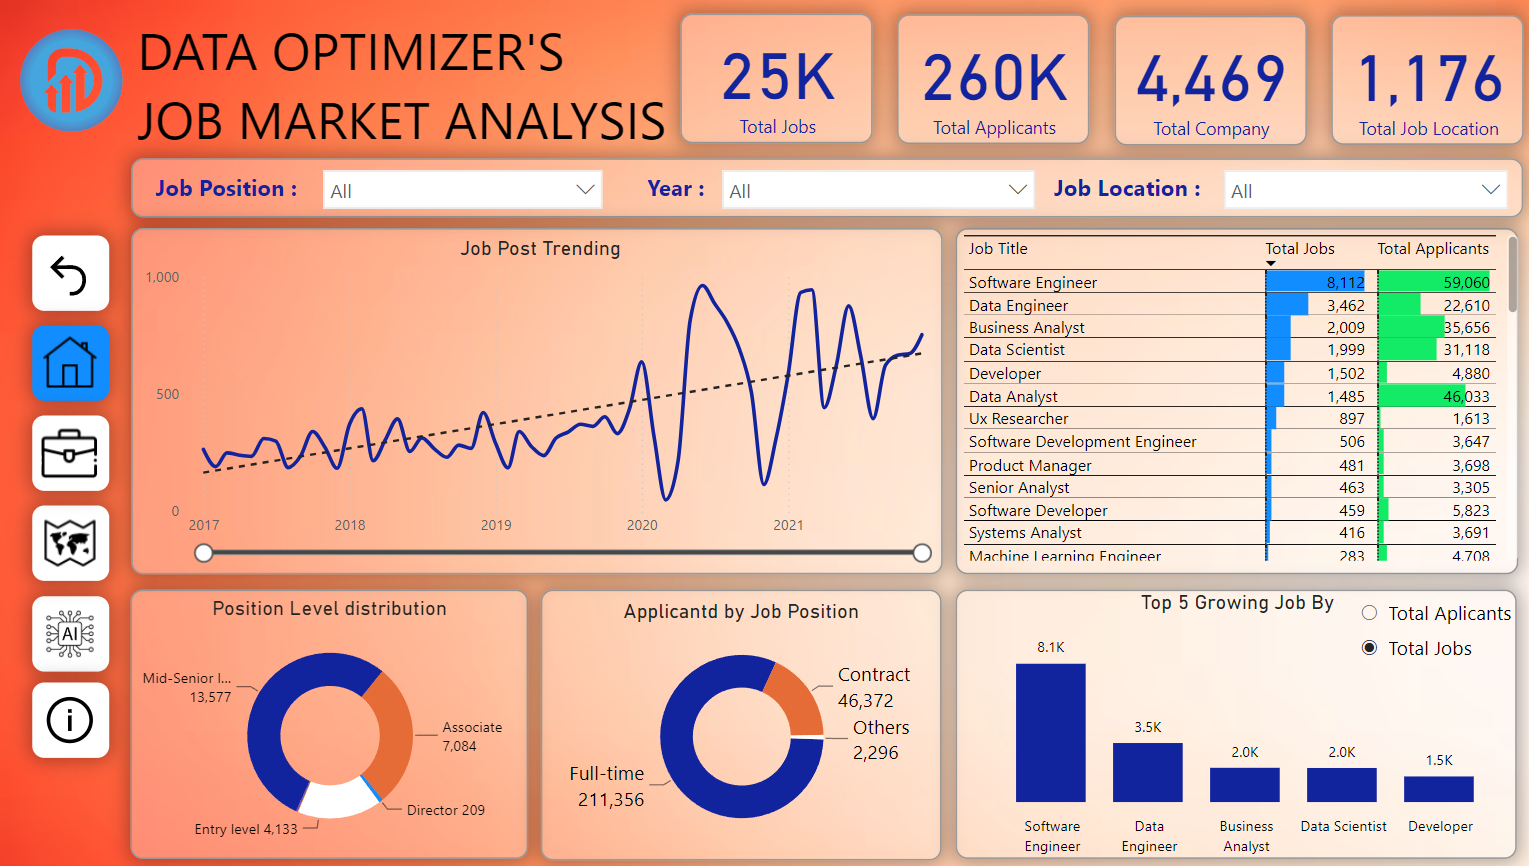

Layout of this report page (visuals, bound fields, positions):
{"tool":"powerbi","page":{"name":"EXEC DASHBOARD","canvas":[1280,720],"ordinal":0},"visuals":[{"type":"group","id":"g1","title":"Group 1","box":[1106.6,12.7,160.5,108.2],"z":0},{"type":"slicer","fields":{"Values":["job_postings.Job Position Level"]},"box":[258,131,253,50],"z":0,"group":"g14"},{"type":"slicer","fields":{"Values":["job_postings.Year"]},"box":[590,131,281,50],"z":0,"group":"g15"},{"type":"slicer","fields":{"Values":["job_postings.Job Location"]},"box":[1007,131,257,51],"z":0,"group":"g16"},{"type":"group","id":"g2","title":"Group 14","box":[27.3,196,64,363],"z":0,"group":"g10"},{"type":"shape","box":[27.3,495.7,63.8,63],"z":0,"group":"g11"},{"type":"shape","box":[27,567.5,63.6,62.7],"z":0,"group":"g4"},{"type":"group","id":"g3","title":"Group 2","box":[746,12.1,160.5,108.2],"z":1000},{"type":"textbox","box":[124,138,144,37],"z":1000,"group":"g14"},{"type":"textbox","box":[533,138,68,35],"z":1000,"group":"g15"},{"type":"textbox","box":[871,138,169,40],"z":1000,"group":"g16"},{"type":"shape","box":[27.3,420.8,63.8,63],"z":1000,"group":"g12"},{"type":"group","id":"g4","title":"Group 15","box":[27,567.5,63.6,62.7],"z":1000,"group":"g10"},{"type":"actionButton","box":[33.3,574,50,51],"z":1000,"group":"g4"},{"type":"group","id":"g5","title":"Group 3","box":[565.7,11.5,160.5,108.2],"z":2000},{"type":"shape","box":[27.3,345.8,63.8,63],"z":2000,"group":"g17"},{"type":"group","id":"g6","title":"Group 4","box":[926.3,13.3,160.5,108.2],"z":3000},{"type":"shape","box":[27.3,270.9,63.8,63],"z":3000,"group":"g18"},{"type":"image","box":[0,6.2,118.8,122.4],"z":4000},{"type":"shape","box":[27.3,196,63.8,63],"z":4000,"group":"g13"},{"type":"textbox","box":[109,6,492,125],"z":5000},{"type":"shape","box":[109,131.9,1157.3,49.1],"z":6000,"group":"g8"},{"type":"shape","box":[108.7,489.9,330.2,224.5],"z":6000},{"type":"shape","box":[565.7,11.5,160.5,108.2],"z":7000,"group":"g7"},{"type":"shape","box":[926.3,13.3,160.5,108.2],"z":7000,"group":"g6"},{"type":"shape","box":[449.5,489.8,333.6,224.8],"z":7000},{"type":"shape","box":[746,12.1,160.5,108.2],"z":8000,"group":"g3"},{"type":"card","fields":{"Values":["_Measure.Total Company"]},"box":[931.9,14.5,149,106.4],"z":8000,"group":"g6"},{"type":"donutChart","title":"Applicantd by Job Position","fields":{"Category":["job_postings.Job Postition Category"],"Y":["_Measure.Total Aplicants"]},"box":[456.7,497.8,320,208.9],"z":8000},{"type":"shape","box":[1106.6,12.7,160.5,108.2],"z":9000,"group":"g1"},{"type":"shape","box":[794.1,189.6,467.9,288.3],"z":9000},{"type":"tableEx","fields":{"Values":["job_postings.Job Title","_Measure.Total Jobs","_Measure.Total Aplicants"]},"box":[794.5,190,472.7,280.9],"z":10000},{"type":"group","id":"g7","title":"Group 5","box":[565.7,11.5,160.5,108.2],"z":10001,"group":"g5"},{"type":"card","fields":{"Values":["_Measure.Total Jobs"]},"box":[571.9,13.3,149,106.4],"z":11000,"group":"g7"},{"type":"shape","box":[794.5,490.3,467.3,223.4],"z":11000},{"type":"card","fields":{"Values":["_Measure.Total Aplicants"]},"box":[752.2,13.9,149,106.4],"z":12000,"group":"g3"},{"type":"columnChart","title":"Top 5 Growing Job By","fields":{"Y":["_Measure.Total Jobs"],"Category":["job_postings.Job Title"]},"box":[793.6,489.1,470.9,226.4],"z":12000},{"type":"shape","box":[109.1,189.8,674.8,288.2],"z":13000,"group":"g9"},{"type":"slicer","fields":{"Values":["Parameter.Parameter"]},"box":[1117.3,490,150,68.2],"z":13000},{"type":"card","fields":{"Values":["_Measure.Total Job Location"]},"box":[1112.8,14.5,149,106.4],"z":14000,"group":"g1"},{"type":"group","id":"g8","title":"Group 7","box":[109,131,1157.3,51],"z":14000},{"type":"lineChart","title":"Job Post Trending","fields":{"Category":["job_postings.Start of Month"],"Y":["_Measure.Total Jobs"]},"box":[114.4,196,669.5,274.9],"z":14000,"group":"g9"},{"type":"group","id":"g9","title":"Group 8","box":[109.1,189.8,674.8,288.2],"z":15000},{"type":"group","id":"g10","title":"Group 16","box":[27,196,64,435],"z":16000},{"type":"donutChart","title":" Position Level distribution","fields":{"Category":["job_postings.Job Position Level"],"Y":["_Measure.Total Jobs"]},"box":[108.9,495.6,330,211.1],"z":17000},{"type":"group","id":"g11","title":"Group 9","box":[27.3,495.7,63.8,63],"z":17000,"group":"g2"},{"type":"group","id":"g12","title":"Group 10","box":[27.3,420.8,63.8,63],"z":18000,"group":"g2"},{"type":"group","id":"g13","title":"Group 13","box":[27.3,196,63.8,212.8],"z":19000,"group":"g2"},{"type":"actionButton","box":[35.5,207.2,50,44],"z":20000,"group":"g13"},{"type":"actionButton","box":[31.3,350.3,58.2,54.1],"z":21000,"group":"g17"},{"type":"group","id":"g14","title":"Group 6","box":[124,131,387,50],"z":24000,"group":"g8"},{"type":"actionButton","box":[31.5,425.3,58,54],"z":24000,"group":"g12"},{"type":"group","id":"g15","title":"Group 6","box":[533,131,338,50],"z":25000,"group":"g8"},{"type":"actionButton","box":[31.5,275.2,58,54],"z":25000,"group":"g18"},{"type":"group","id":"g16","title":"Group 6","box":[871,131,393,51],"z":26000,"group":"g8"},{"type":"actionButton","box":[31.5,500.2,58,54],"z":26000,"group":"g11"},{"type":"group","id":"g17","title":"Group 11","box":[27.3,345.8,63.8,63],"z":26003,"group":"g18"},{"type":"group","id":"g18","title":"Group 12","box":[27.3,270.9,63.8,137.9],"z":26004,"group":"g13"}]}

Visuals, with their boxes in screenshot pixels (x1, y1, x2, y2), scaled from the page's 1280x720 canvas onto the 1529x866 screenshot:
"Group 1" group: 1322, 15, 1514, 145
slicer - job_postings.Job Position Level: 308, 158, 610, 218
slicer - job_postings.Year: 705, 158, 1040, 218
slicer - job_postings.Job Location: 1203, 158, 1510, 219
"Group 14" group: 33, 236, 109, 672
shape: 33, 596, 109, 672
shape: 32, 683, 108, 758
"Group 2" group: 891, 15, 1083, 145
textbox: 148, 166, 320, 210
textbox: 637, 166, 718, 208
textbox: 1040, 166, 1242, 214
shape: 33, 506, 109, 582
"Group 15" group: 32, 683, 108, 758
actionButton: 40, 690, 100, 752
"Group 3" group: 676, 14, 867, 144
shape: 33, 416, 109, 492
"Group 4" group: 1106, 16, 1298, 146
shape: 33, 326, 109, 402
image: 0, 7, 142, 155
shape: 33, 236, 109, 312
textbox: 130, 7, 718, 158
shape: 130, 159, 1513, 218
shape: 130, 589, 524, 859
shape: 676, 14, 867, 144
shape: 1106, 16, 1298, 146
shape: 537, 589, 935, 860
shape: 891, 15, 1083, 145
card - _Measure.Total Company: 1113, 17, 1291, 145
"Applicantd by Job Position" donutChart: 546, 599, 928, 850
shape: 1322, 15, 1514, 145
shape: 949, 228, 1507, 575
tableEx - job_postings.Job Title x _Measure.Total Jobs: 949, 229, 1514, 566
"Group 5" group: 676, 14, 867, 144
card - _Measure.Total Jobs: 683, 16, 861, 144
shape: 949, 590, 1507, 858
card - _Measure.Total Aplicants: 899, 17, 1077, 145
"Top 5 Growing Job By" columnChart: 948, 588, 1510, 861
shape: 130, 228, 936, 575
slicer - Parameter.Parameter: 1335, 589, 1514, 671
card - _Measure.Total Job Location: 1329, 17, 1507, 145
"Group 7" group: 130, 158, 1513, 219
"Job Post Trending" lineChart: 137, 236, 936, 566
"Group 8" group: 130, 228, 936, 575
"Group 16" group: 32, 236, 109, 759
" Position Level distribution" donutChart: 130, 596, 524, 850
"Group 9" group: 33, 596, 109, 672
"Group 10" group: 33, 506, 109, 582
"Group 13" group: 33, 236, 109, 492
actionButton: 42, 249, 102, 302
actionButton: 37, 421, 107, 486
"Group 6" group: 148, 158, 610, 218
actionButton: 38, 512, 107, 576
"Group 6" group: 637, 158, 1040, 218
actionButton: 38, 331, 107, 396
"Group 6" group: 1040, 158, 1510, 219
actionButton: 38, 602, 107, 667
"Group 11" group: 33, 416, 109, 492
"Group 12" group: 33, 326, 109, 492
